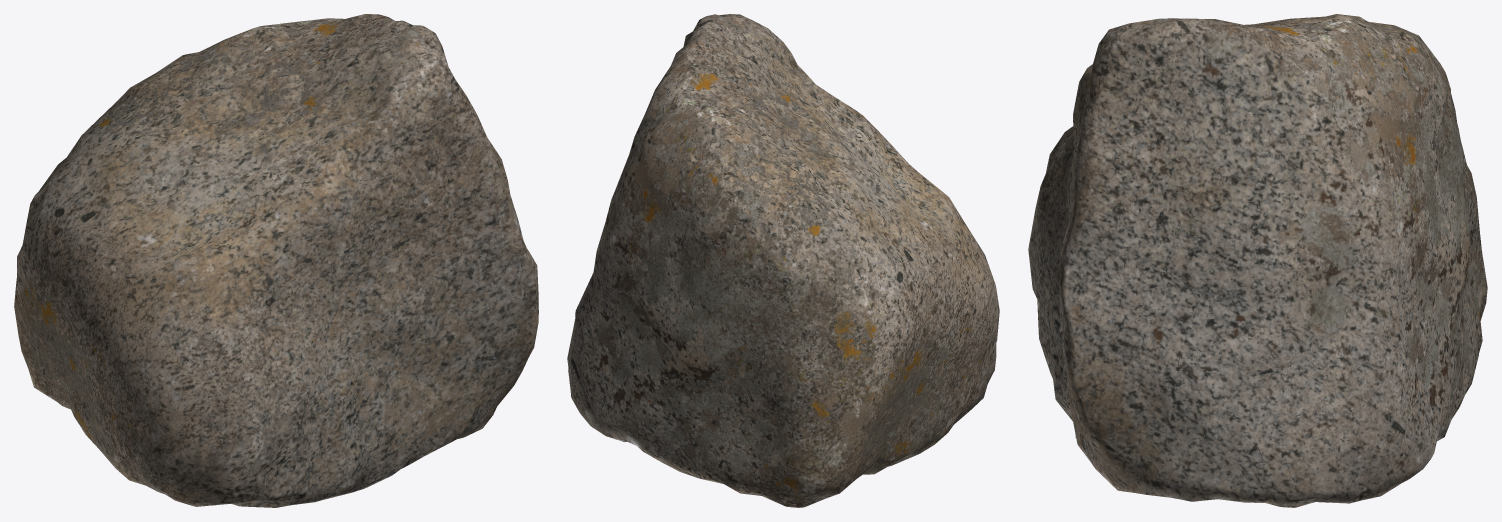
File: SM_whhlajq_tier_2.gltf
3 views of the same model, side by side, from view 1: azimuth 30°, elevation 25°; view 2: azimuth 150°, elevation 25°; view 3: azimuth 270°, elevation 25° (orthographic). The views are drawn at different scales.
Parts seen in each view (by area): view 1: whhlajq_LOD2_TIER2_000; view 2: whhlajq_LOD2_TIER2_000; view 3: whhlajq_LOD2_TIER2_000.
Part boxes in pixels (x1,y1,x2,y2): whhlajq_LOD2_TIER2_000: [14, 14, 538, 507]; whhlajq_LOD2_TIER2_000: [567, 14, 999, 507]; whhlajq_LOD2_TIER2_000: [1028, 14, 1487, 507].
Size of the model in its own units: 0.2723 by 0.2719 by 0.2388.
Materials: 1 (1 with a texture image).
